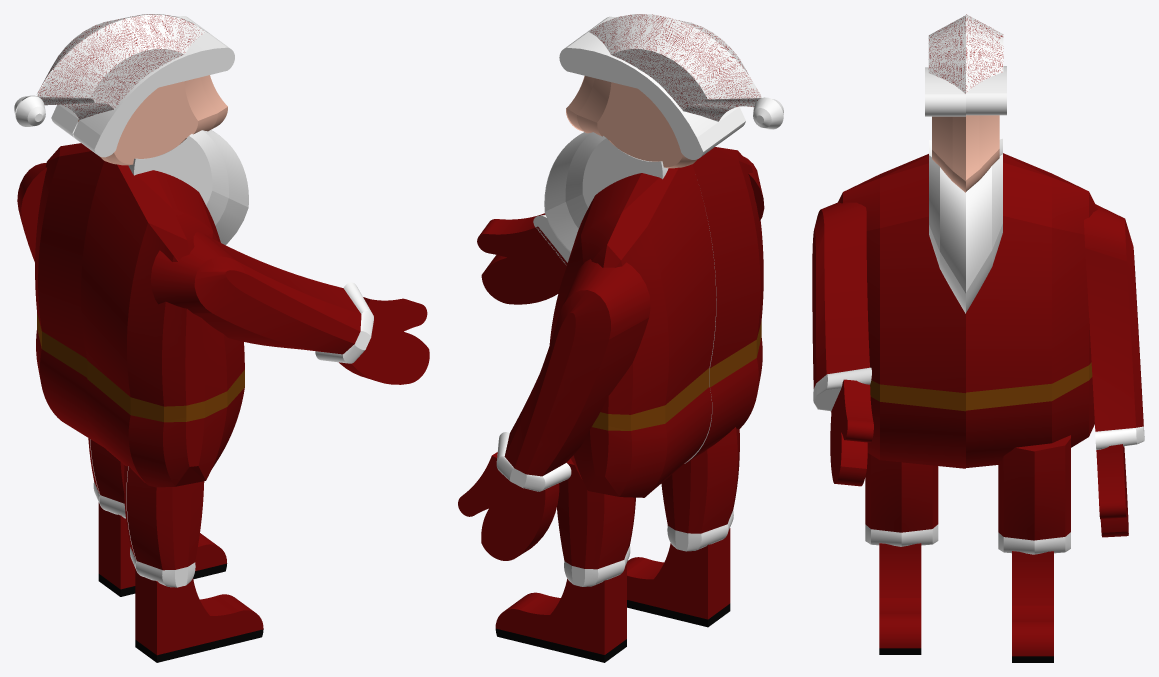
File: LeZhangSanta.dae
3 views of the same model, side by side, from view 1: azimuth 30°, elevation 25°; view 2: azimuth 150°, elevation 25°; view 3: azimuth 270°, elevation 25° (orthographic). The views are drawn at different scales.
Visible parts, largest first — view 1: group_12 (×3), group_7 (×5), group_11 (×3), group_13 (×3), group_2 (×3), group_4 (×3), group_10, group_8 (×2); view 2: group_13 (×3), group_8 (×5), group_11 (×3), group_2 (×4), group_12 (×3), group_5 (×4), group_10 (×2), group_7; view 3: group_13 (×3), group_12 (×3), group_11 (×4), group_8 (×4), group_7 (×4), group_2 (×2), group_10 (×2), group_5 (×2), group_4 (×2).
Part boxes in pixels (<box>): group_12 (×3): <box>81,161,244,487</box>; group_7 (×5): <box>16,14,248,244</box>; group_11 (×3): <box>17,163,373,363</box>; group_13 (×3): <box>35,143,104,446</box>; group_2 (×3): <box>98,502,263,662</box>; group_4 (×3): <box>90,439,204,587</box>; group_10: <box>339,297,429,384</box>; group_8 (×2): <box>36,14,209,138</box>; group_13 (×3): <box>549,164,716,497</box>; group_8 (×5): <box>545,14,783,251</box>; group_11 (×3): <box>496,214,650,491</box>; group_2 (×4): <box>495,528,730,662</box>; group_12 (×3): <box>686,147,763,462</box>; group_5 (×4): <box>557,427,737,586</box>; group_10 (×2): <box>458,213,567,560</box>; group_7: <box>587,16,745,142</box>; group_13 (×3): <box>966,153,1097,467</box>; group_12 (×3): <box>831,154,965,468</box>; group_11 (×4): <box>812,202,1144,449</box>; group_8 (×4): <box>966,14,1006,312</box>; group_7 (×4): <box>925,15,965,313</box>; group_2 (×2): <box>879,543,1053,656</box>; group_10 (×2): <box>830,379,1128,537</box>; group_5 (×2): <box>901,435,1070,540</box>; group_4 (×2): <box>865,445,1034,540</box>.
Size of the model in its own units: 47.69 by 40.52 by 79.21.
